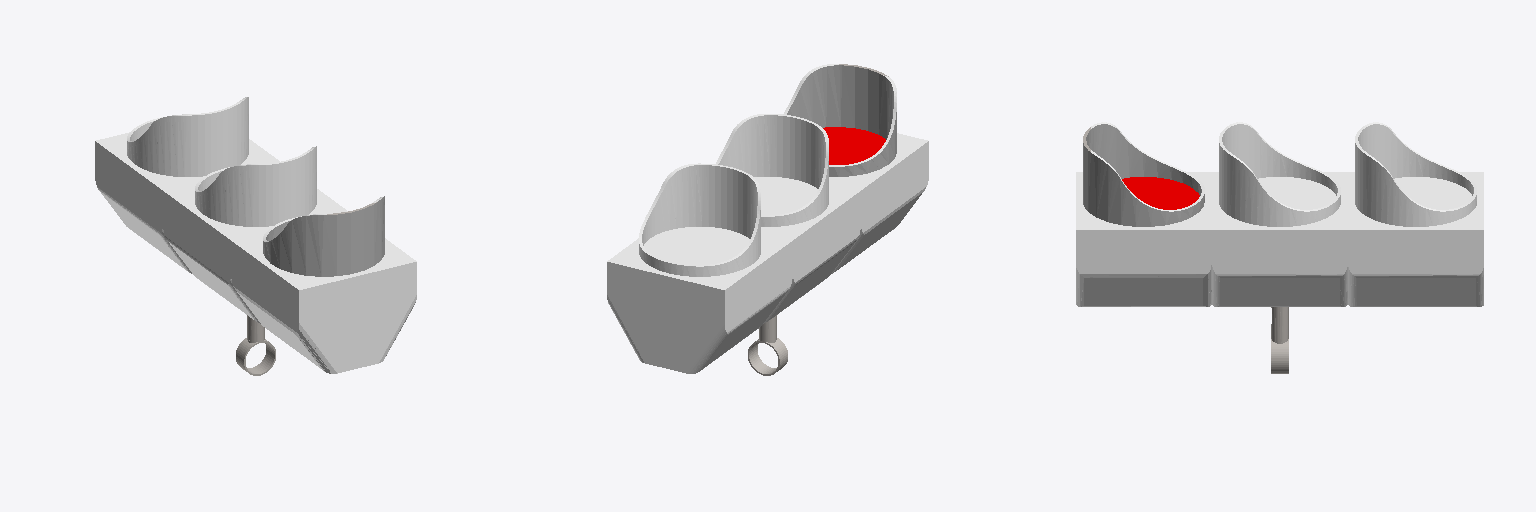
Rendered from svetofor_3_1.obj.
The picture shows the model from 3 angles: view 1: azimuth 30°, elevation 25°; view 2: azimuth 150°, elevation 25°; view 3: azimuth 270°, elevation 25°; orthographic projection.
Parts seen in each view (by area): view 1: ________0, ________3, ________2, ________1; view 2: ________2, ________3, ________0, ________1; view 3: ________2, ________3, ________0, ________1.
Boxes of the visible parts, x1=… form: ________0: x1=231, y1=196, x2=416, y2=373; ________3: x1=163, y1=146, x2=347, y2=323; ________2: x1=95, y1=97, x2=279, y2=273; ________1: x1=236, y1=315, x2=275, y2=375; ________2: x1=607, y1=163, x2=792, y2=373; ________3: x1=716, y1=114, x2=860, y2=323; ________0: x1=783, y1=64, x2=928, y2=273; ________1: x1=748, y1=315, x2=787, y2=375; ________2: x1=1348, y1=122, x2=1483, y2=306; ________3: x1=1212, y1=122, x2=1347, y2=306; ________0: x1=1076, y1=122, x2=1211, y2=306; ________1: x1=1271, y1=307, x2=1288, y2=373.
Size of the model in its own units: 0.008 by 0.0151 by 0.024.